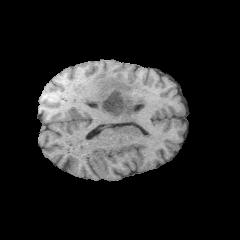glioma: (83, 73, 133, 117)
